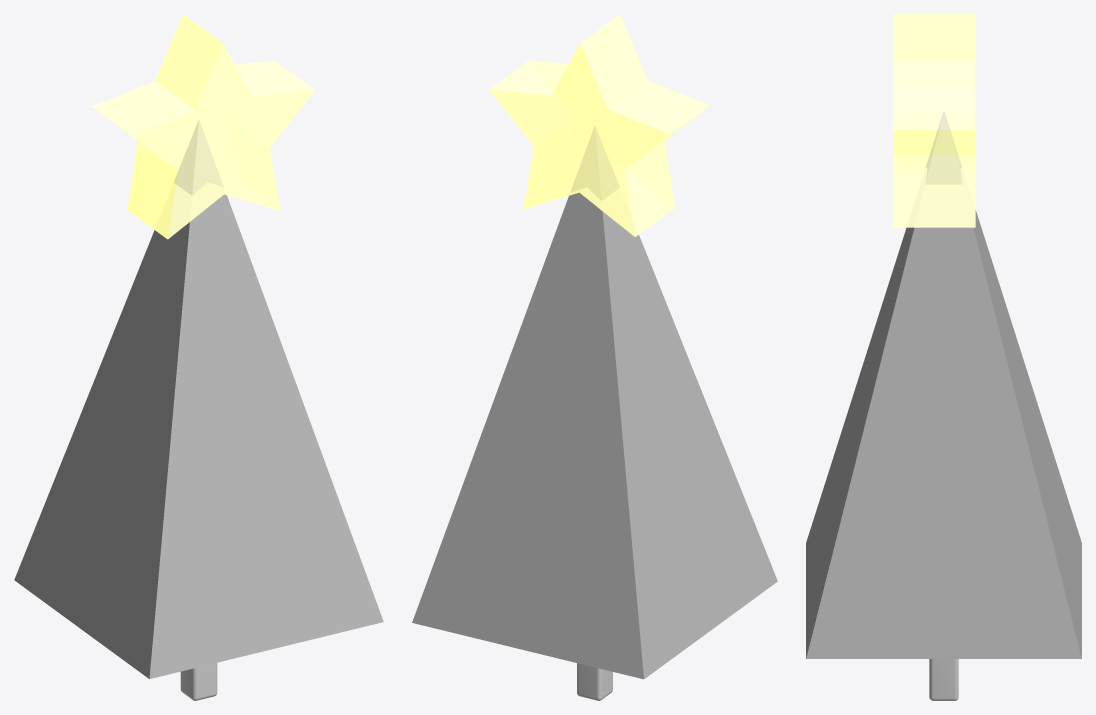
The model's file is Triangle Tree.fbx.
3 renders of one model, left to right at view 1: azimuth 30°, elevation 25°; view 2: azimuth 150°, elevation 25°; view 3: azimuth 270°, elevation 25°, orthographic. The views are drawn at different scales.
Visible parts, largest first — view 1: Pyramid, Extrude_1, Cube; view 2: Pyramid, Extrude_1, Cube; view 3: Pyramid, Extrude_1, Cube.
Part boxes in pixels (x1=…): Pyramid: x1=14, y1=121, x2=383, y2=679; Extrude_1: x1=92, y1=14, x2=314, y2=239; Cube: x1=180, y1=663, x2=217, y2=700; Pyramid: x1=412, y1=127, x2=777, y2=679; Extrude_1: x1=489, y1=14, x2=709, y2=237; Cube: x1=577, y1=663, x2=612, y2=700; Pyramid: x1=806, y1=112, x2=1081, y2=658; Extrude_1: x1=893, y1=14, x2=975, y2=227; Cube: x1=929, y1=659, x2=958, y2=700.
Size of the model in its own units: 32.32 by 88.2 by 32.32.
